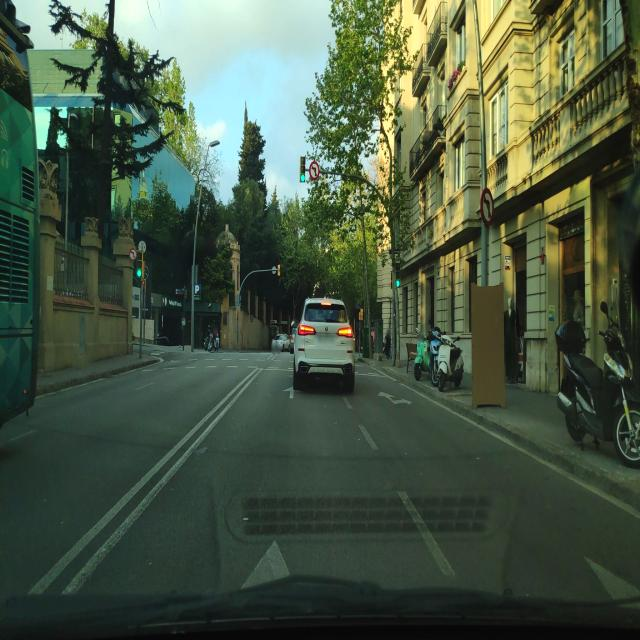bike: (551, 303, 640, 465), (435, 331, 465, 391), (414, 328, 434, 383)
car: (293, 295, 355, 392), (271, 332, 294, 353)
